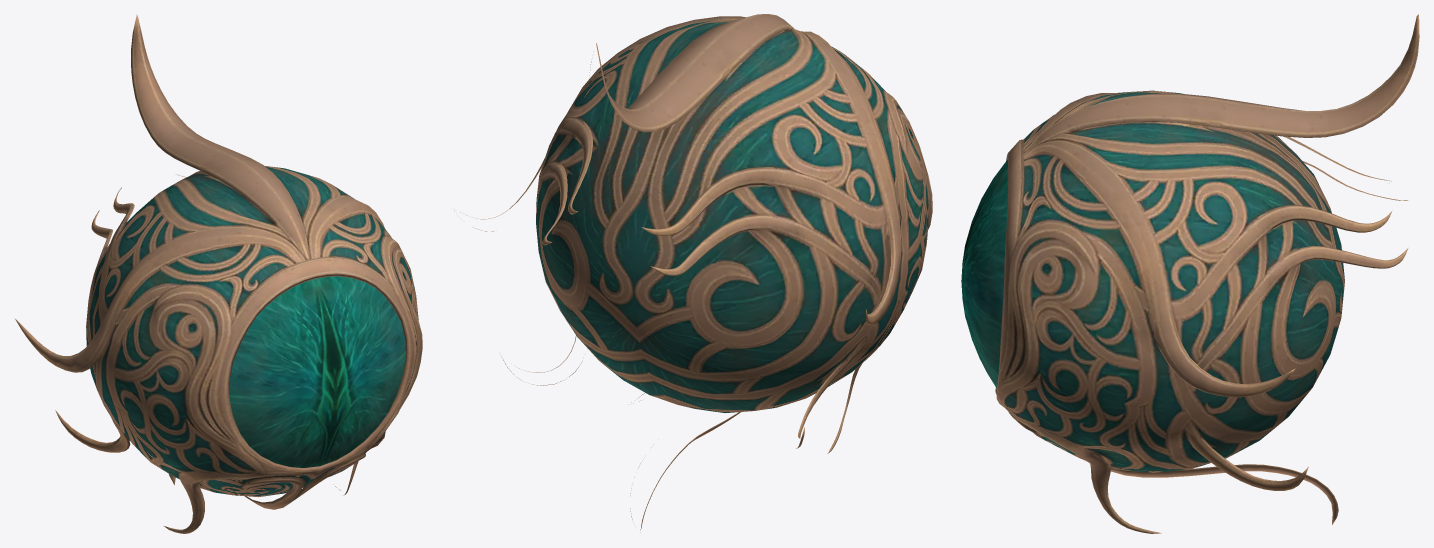
Rendered from pet-1064.glb.
3 views of the same model, side by side, from view 1: azimuth 30°, elevation 25°; view 2: azimuth 150°, elevation 25°; view 3: azimuth 270°, elevation 25° (orthographic). The views are drawn at different scales.
Visible parts, largest first — view 1: VEH_Oculazen_02; view 2: VEH_Oculazen_02; view 3: VEH_Oculazen_02.
Part boxes in pixels (box(x1,y1,x2,y2)): VEH_Oculazen_02: box(15, 14, 422, 533); VEH_Oculazen_02: box(454, 14, 932, 532); VEH_Oculazen_02: box(961, 14, 1419, 533).
Size of the model in its own units: 1.15 by 1.39 by 1.13.
Materials: 1 (1 with a texture image).
